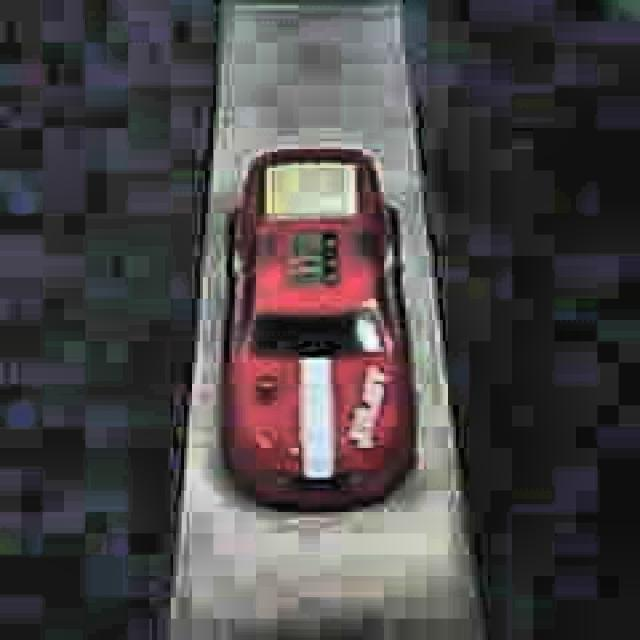car: (215, 141, 421, 519)
